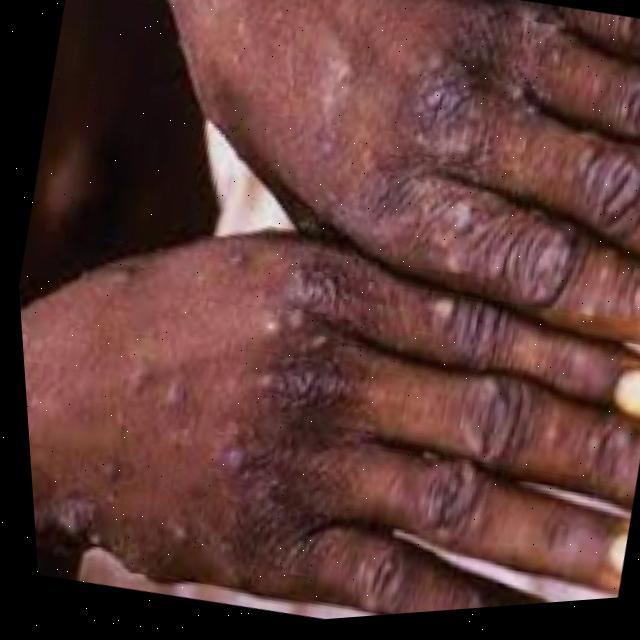Eczema: (27, 211, 395, 613), (290, 0, 565, 256)
